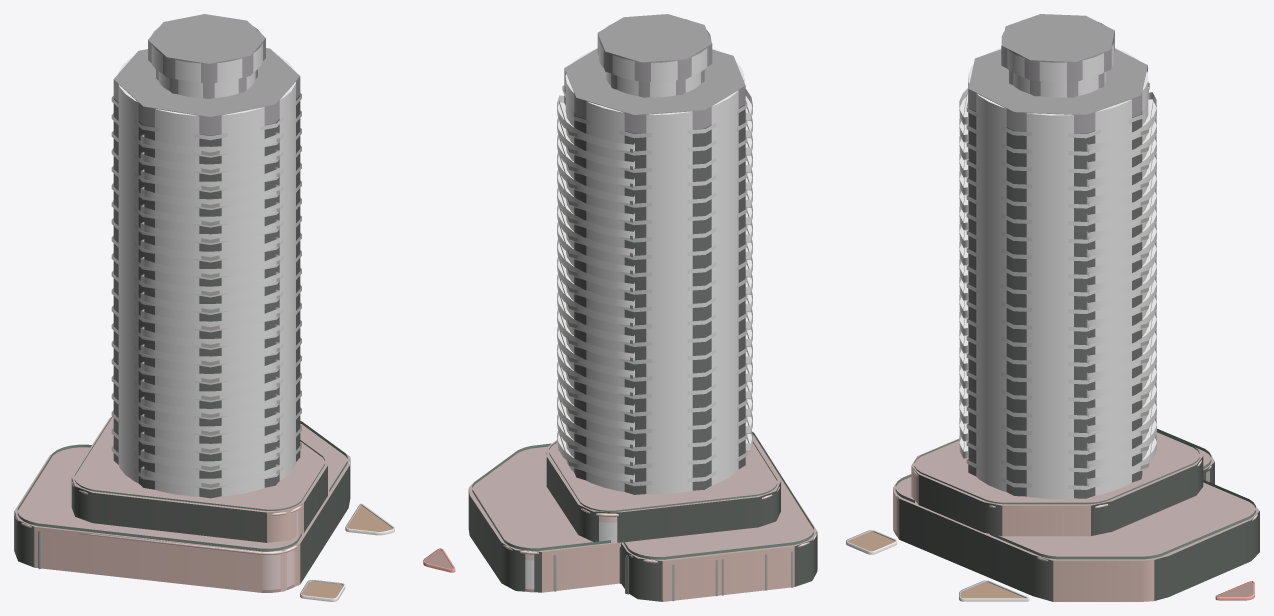
The model's file is condo_cylindrical.dae.
3 renders of one model, left to right at view 1: azimuth 30°, elevation 25°; view 2: azimuth 150°, elevation 25°; view 3: azimuth 270°, elevation 25°, orthographic.
Parts seen in each view (by area): view 1: condo_cylindrical_a500, condo_cylindrical_a1000; view 2: condo_cylindrical_a500, condo_cylindrical_a1000; view 3: condo_cylindrical_a500, condo_cylindrical_a1000.
Boxes of the visible parts, x1=… form: condo_cylindrical_a500: x1=14, y1=14, x2=350, y2=592; condo_cylindrical_a1000: x1=14, y1=26, x2=394, y2=601; condo_cylindrical_a500: x1=468, y1=14, x2=817, y2=601; condo_cylindrical_a1000: x1=423, y1=19, x2=817, y2=601; condo_cylindrical_a500: x1=893, y1=14, x2=1259, y2=601; condo_cylindrical_a1000: x1=846, y1=20, x2=1257, y2=601.
Size of the model in its own units: 56.5 by 63.98 by 87.38.
